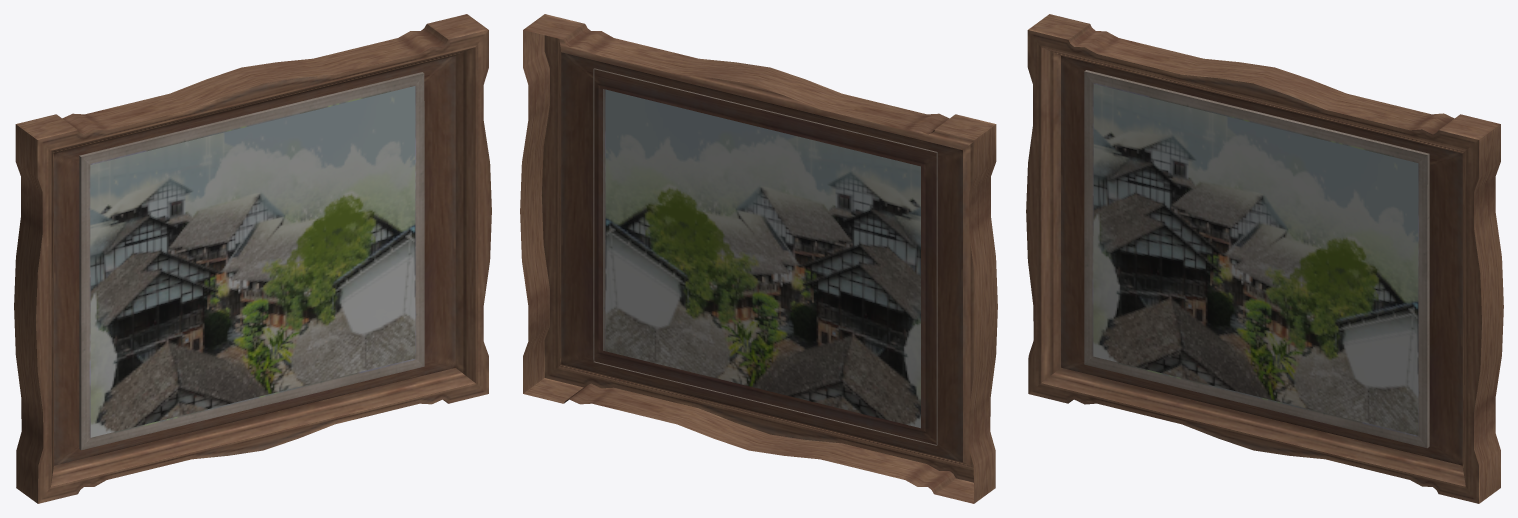
The model's file is mt_dj_paint_03.fbx.
The picture shows the model from 3 angles, left to right: view 1: azimuth 30°, elevation 25°; view 2: azimuth 150°, elevation 25°; view 3: azimuth 330°, elevation 25°; orthographic projection.
Parts seen in each view (by area): view 1: mt_dj_paint_03; view 2: mt_dj_paint_03; view 3: mt_dj_paint_03.
Boxes of the visible parts, bbox=[...] form: mt_dj_paint_03: bbox=[14, 14, 491, 503]; mt_dj_paint_03: bbox=[520, 14, 997, 503]; mt_dj_paint_03: bbox=[1026, 14, 1503, 503].
Size of the model in its own units: 257 by 197 by 21.24.
